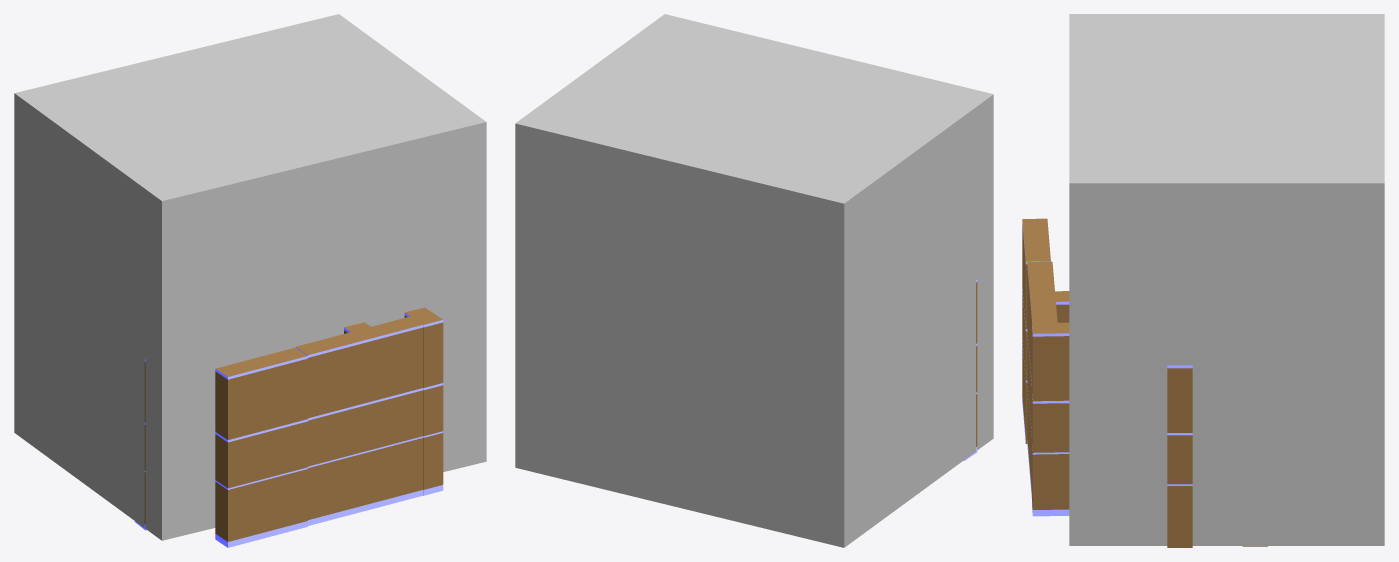
File: map1.glb
The picture shows the model from 3 angles, left to right: view 1: azimuth 30°, elevation 25°; view 2: azimuth 150°, elevation 25°; view 3: azimuth 270°, elevation 25°; orthographic projection. The views are drawn at different scales.
Visible parts, largest first — view 1: Cube, wall_1.008, wall_1.009, wall_1.005; view 2: Cube; view 3: Cube, wall_1.005, wall_1, wall_1.008, wall_1.009, wall_1.010.
Part boxes in pixels (<box>): Cube: <box>14,14,486,540</box>; wall_1.008: <box>295,316,422,525</box>; wall_1.009: <box>215,347,307,547</box>; wall_1.005: <box>404,307,443,495</box>; Cube: <box>515,14,993,547</box>; Cube: <box>1069,14,1384,545</box>; wall_1.005: <box>1032,322,1069,516</box>; wall_1: <box>1167,365,1192,547</box>; wall_1.008: <box>1027,261,1057,497</box>; wall_1.009: <box>1022,218,1050,443</box>; wall_1.010: <box>1032,291,1069,322</box>.
Size of what is drawn, in the model's own units: 31.82 by 31.96 by 28.78.
